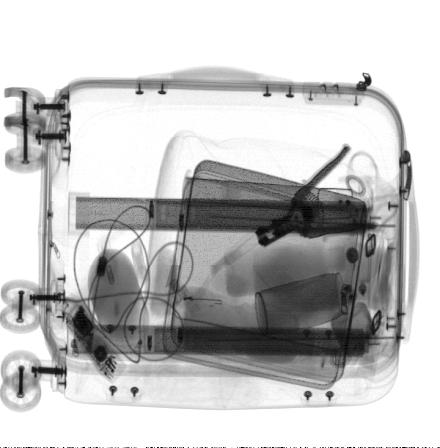Pliers: (255, 143, 377, 249)
